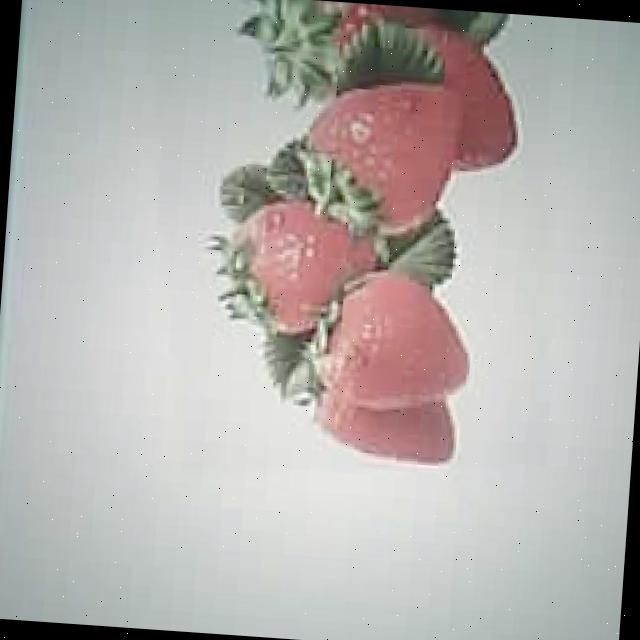strawberry: (306, 76, 464, 230), (311, 270, 475, 412)
